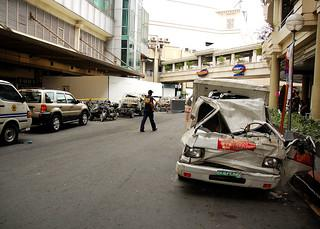boot-dent: (194, 139, 263, 170)
roof-dent: (200, 89, 265, 128)
